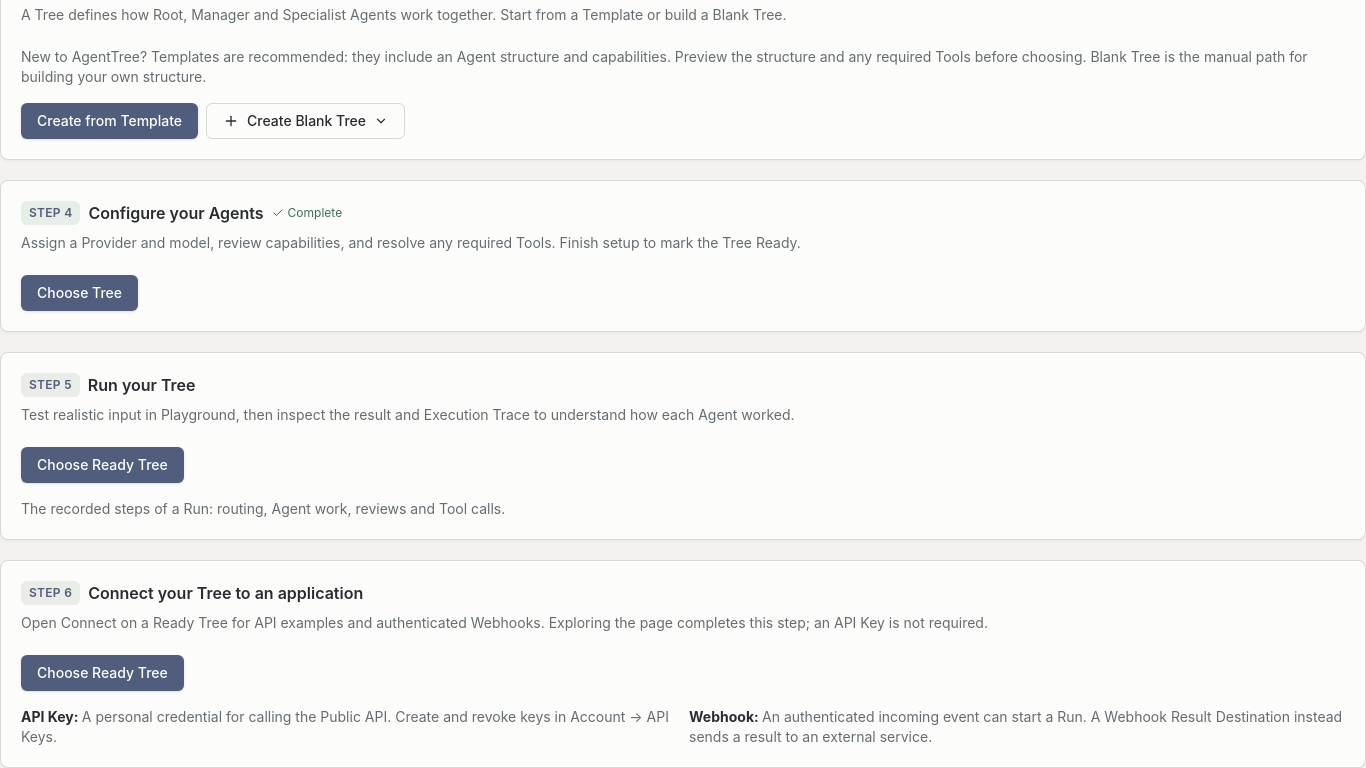
Scenario: requires explicit multiple-Tree selection for Connect your Tree to an application
The width and height of the screenshot is (1366, 768).
(page scrolled)
Click the button "Choose Ready Tree" below "Connect your Tree to an application". click: (102, 673)
box: [21,655,184,691]
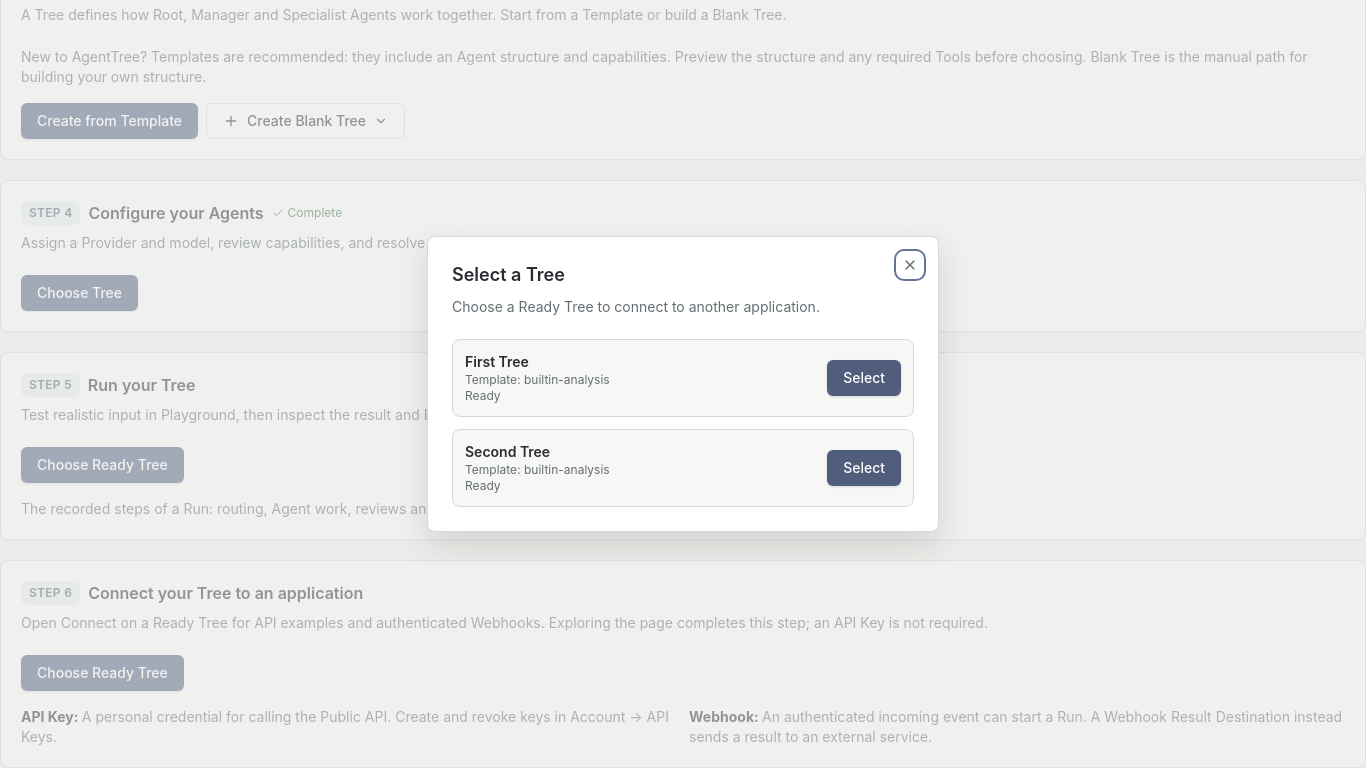
Check: the heading "First Tree" is shown, box [465,353,529,370]
Check: the heading "Second Tree" is shown, box [465,443,550,460]
